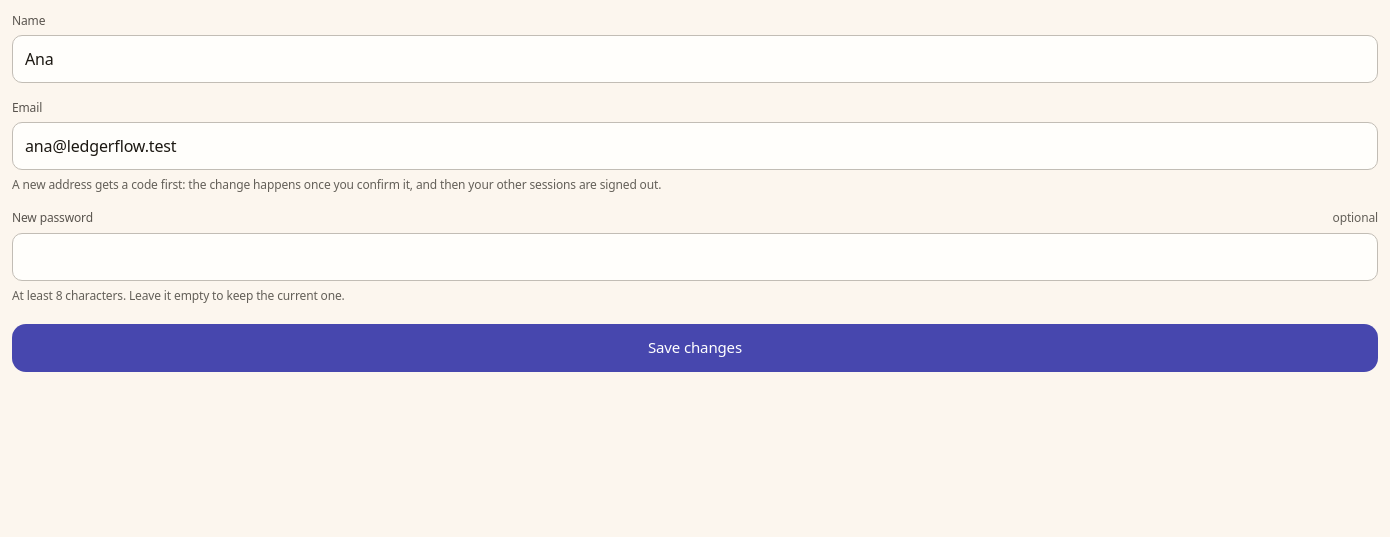
Test case: ProfileView › asks the new address to confirm itself, and changes nothing else
Expected: the text "A new address gets a code first: the change happens once you confirm it" is shown, 12,176 -> 661,193
Replace the text in the field labelled "Email" with "new@ledgerflow.test" at x=695, y=146, box 12,122 -> 1378,170
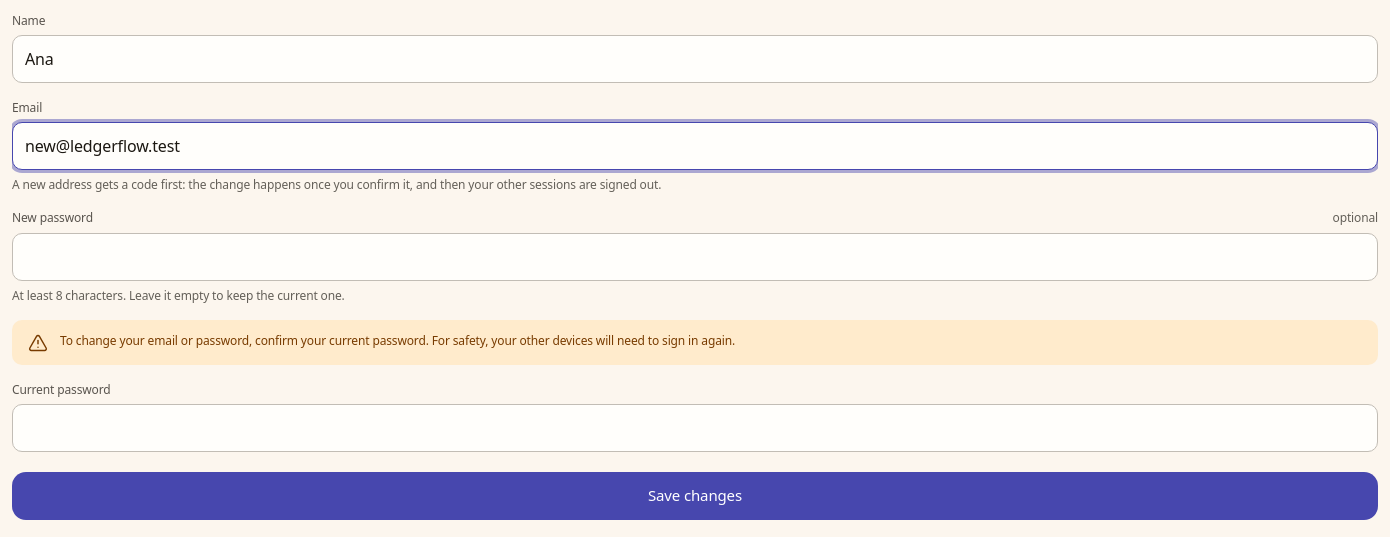
Type "OldPass!2026" into the password field labelled "Current password".
click(695, 428); type("OldPass!2026")  # box 12,404 -> 1378,452
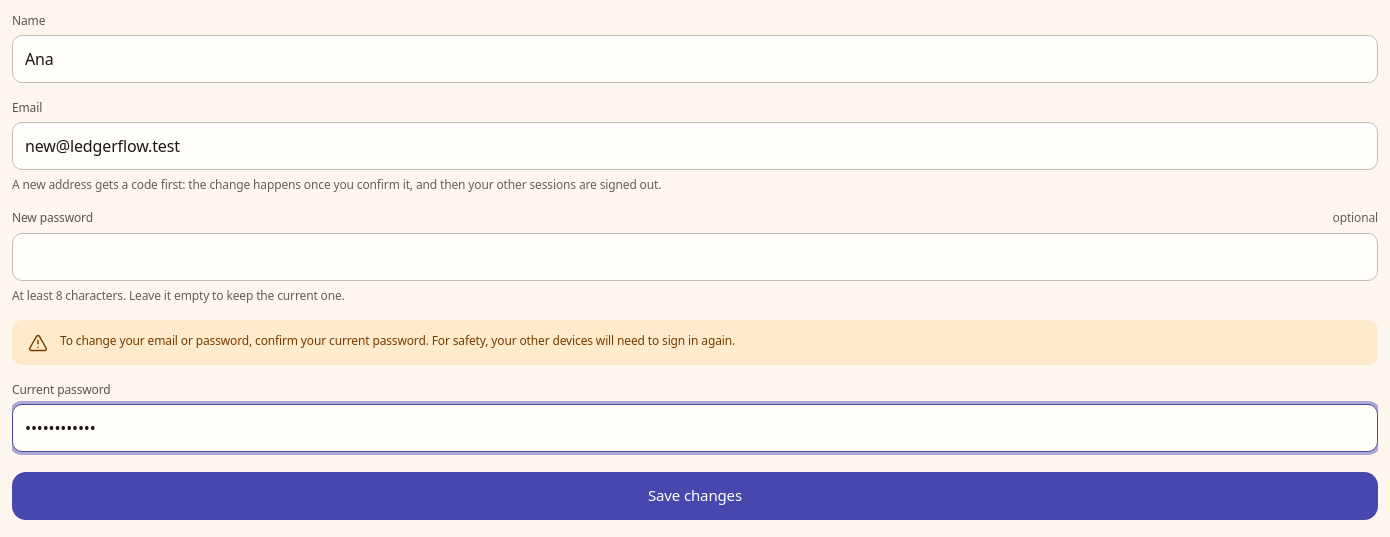
Click the button named "Save changes".
click(695, 496)  # box 12,472 -> 1378,520
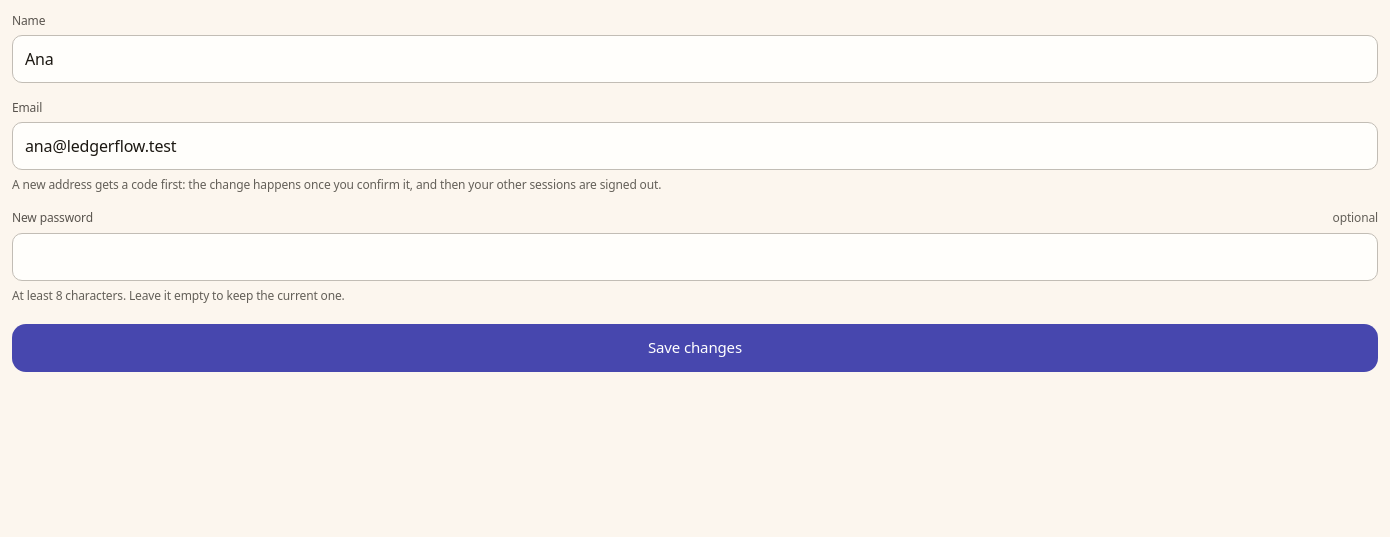
Now the field labelled "Email" holds "ana@ledgerflow.test", box 12,122 -> 1378,170
